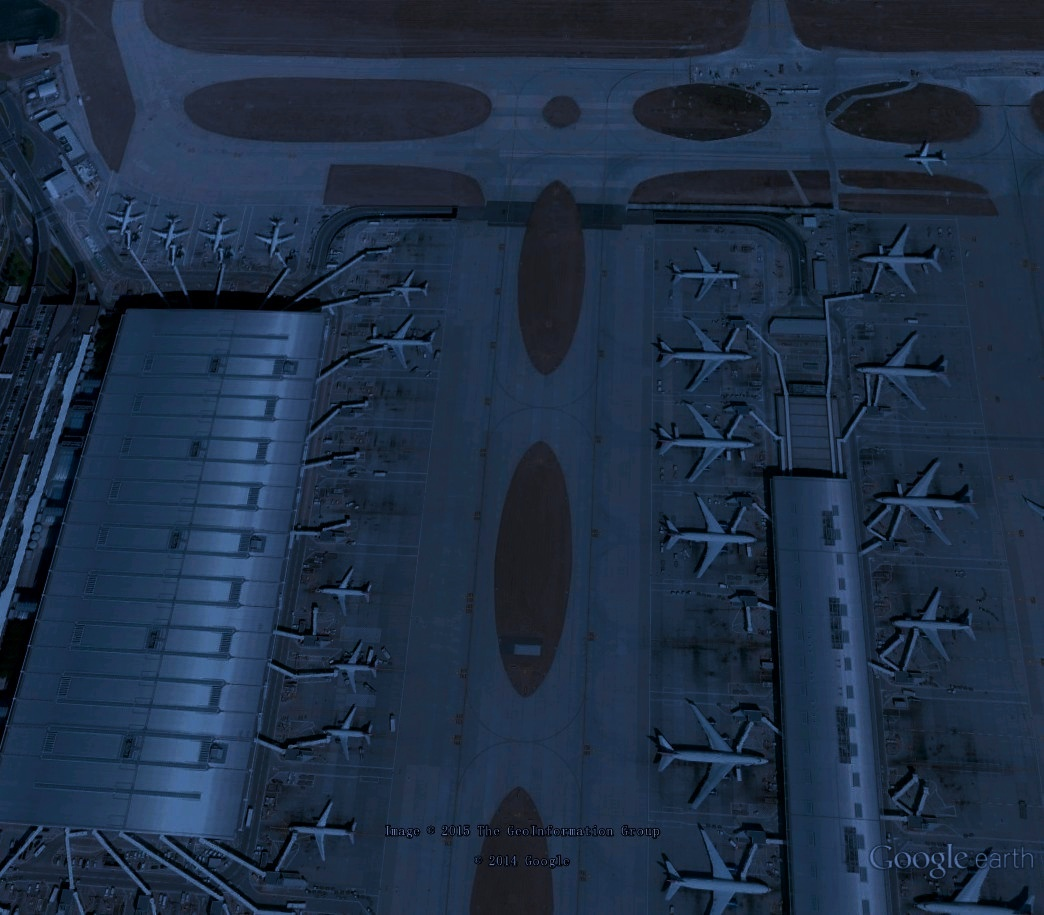aircraft: (649, 696, 774, 817), (656, 826, 775, 915), (870, 457, 980, 550), (657, 490, 763, 584), (849, 328, 957, 418), (654, 400, 764, 487), (653, 312, 758, 398), (910, 847, 1041, 914), (887, 587, 981, 666), (855, 221, 950, 299), (286, 798, 361, 868), (362, 310, 438, 375), (669, 244, 744, 305), (312, 564, 376, 624), (321, 703, 376, 769), (328, 637, 385, 698), (250, 216, 298, 262), (901, 138, 952, 181), (195, 211, 240, 258), (384, 268, 433, 310), (147, 211, 192, 255), (105, 197, 147, 241)
